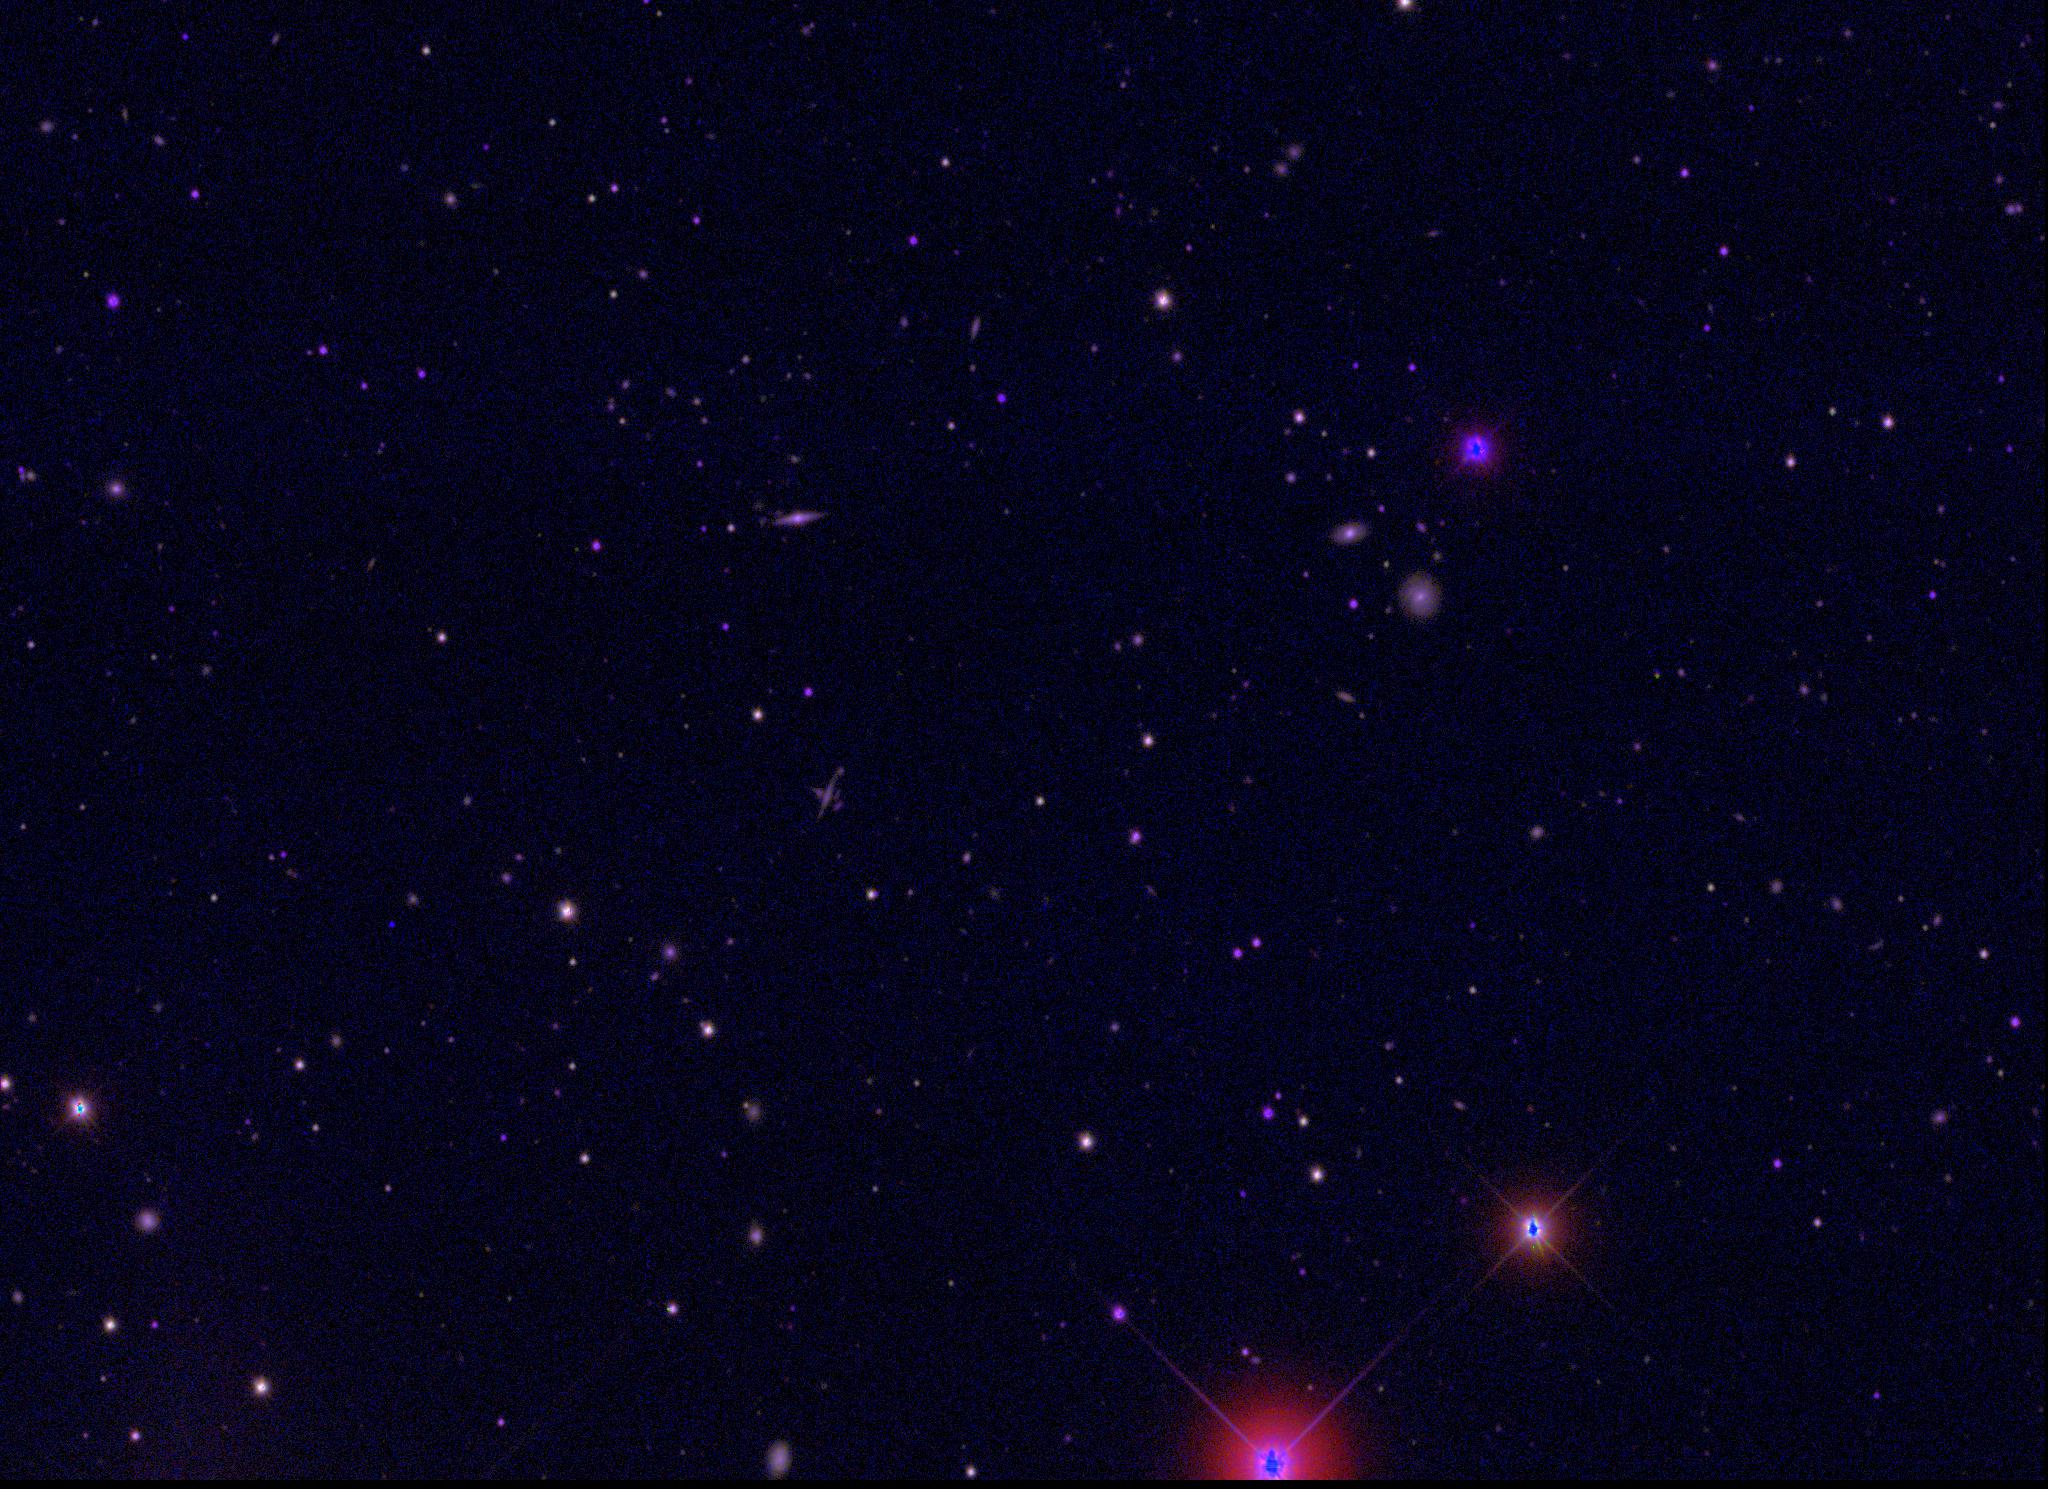L: (385, 918, 399, 932)
